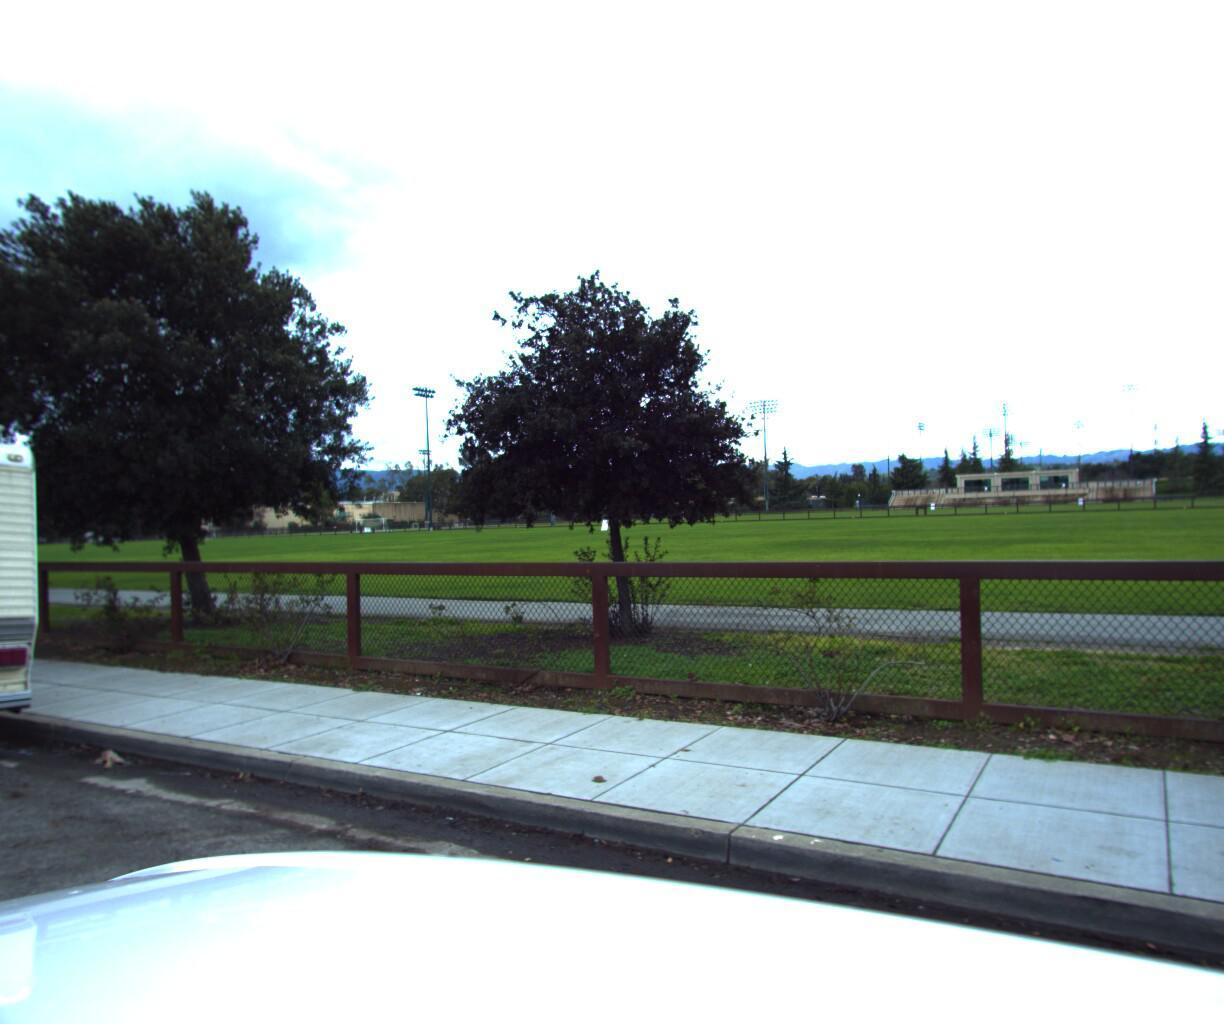other_vehicle: (0, 336, 89, 831)
